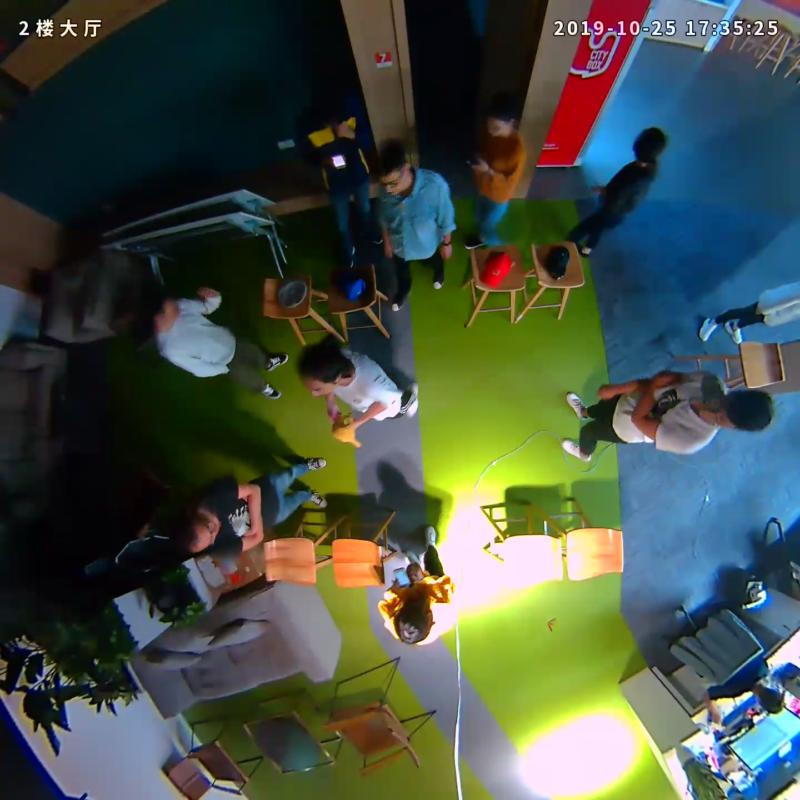head: (701, 389, 772, 434), (167, 504, 220, 555), (298, 342, 345, 397), (371, 137, 411, 195), (394, 601, 433, 646), (138, 286, 181, 325), (307, 88, 345, 126), (632, 126, 667, 163), (486, 100, 518, 139)
